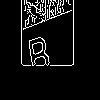B: (25, 25, 52, 77)
